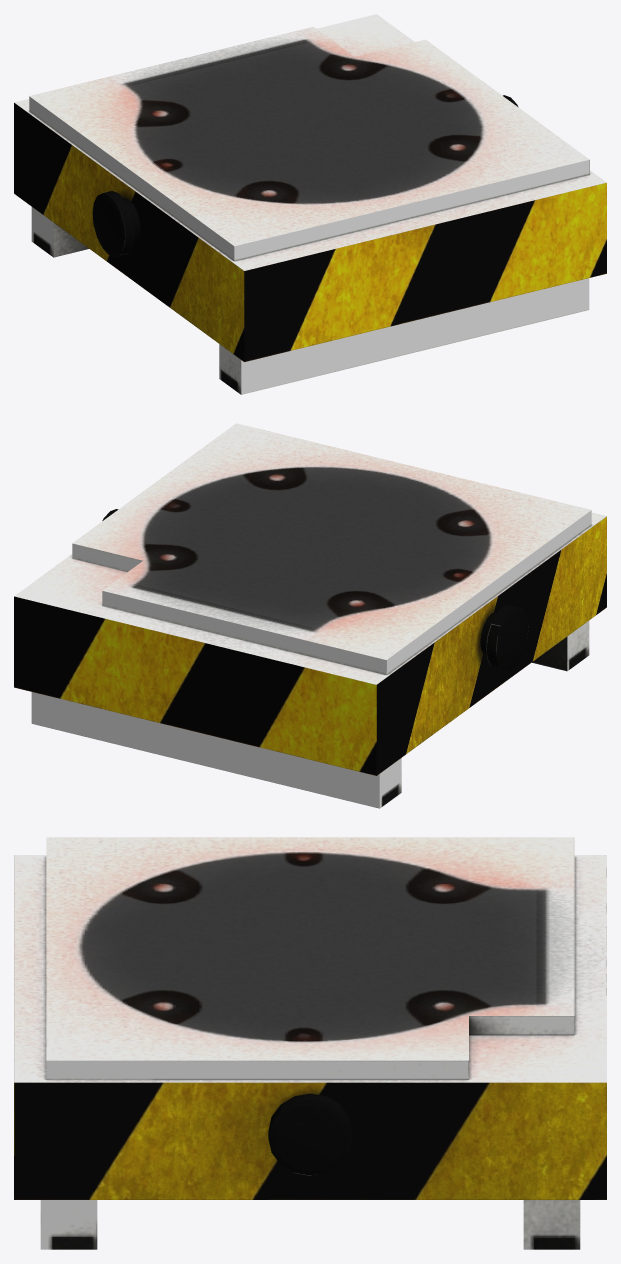
File: robot2Carrier.glb
3 views of the same model, one above another, from view 1: azimuth 30°, elevation 25°; view 2: azimuth 150°, elevation 25°; view 3: azimuth 270°, elevation 25° (orthographic). The views are drawn at different scales.
Visible parts, largest first — view 1: Asset3DLoader.sceneRoot; view 2: Asset3DLoader.sceneRoot; view 3: Asset3DLoader.sceneRoot.
Boxes of the visible parts, x1=… form: Asset3DLoader.sceneRoot: x1=14, y1=14, x2=606, y2=394; Asset3DLoader.sceneRoot: x1=14, y1=423, x2=606, y2=808; Asset3DLoader.sceneRoot: x1=14, y1=837, x2=606, y2=1249.
Bounding box in the file's own units: 280 × 97.53 × 275.
2 materials, 2 textured.
